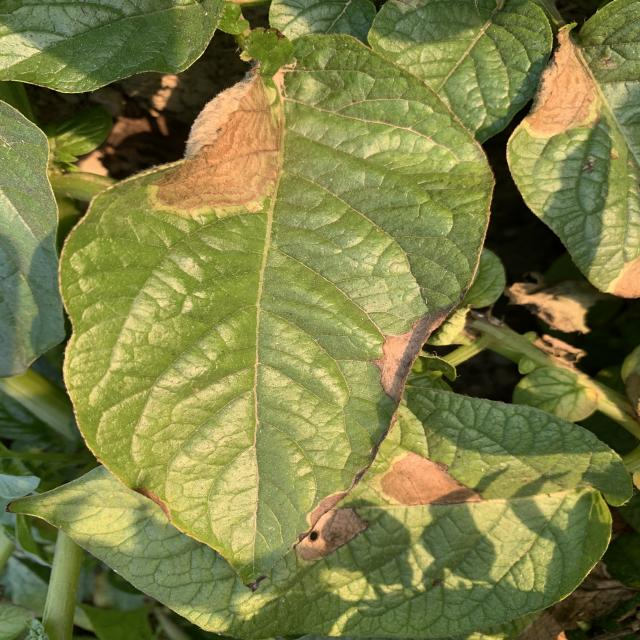lateblight: (148, 70, 282, 218), (522, 24, 602, 139), (372, 306, 452, 402), (380, 451, 482, 505), (297, 492, 360, 560), (607, 256, 640, 299)
